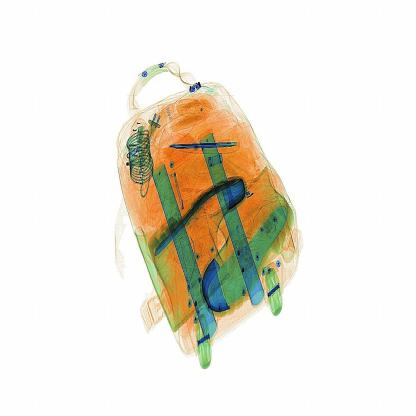pliers: (170, 139, 245, 158)
